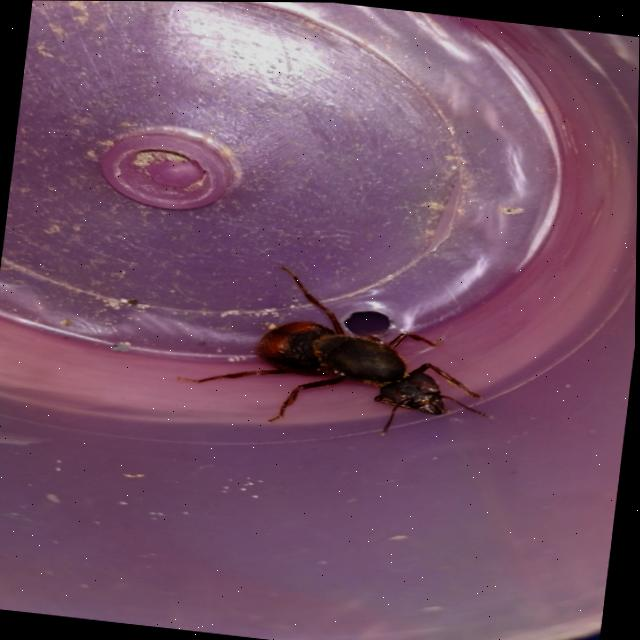Alive-Female-Dealate: (173, 254, 511, 448)
